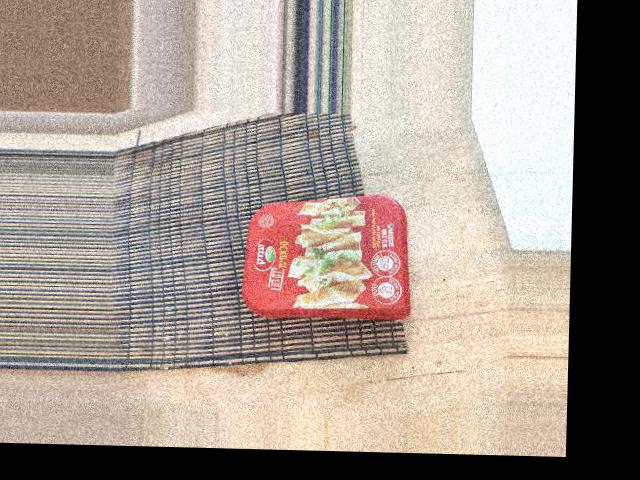cheese: (189, 94, 320, 285)
